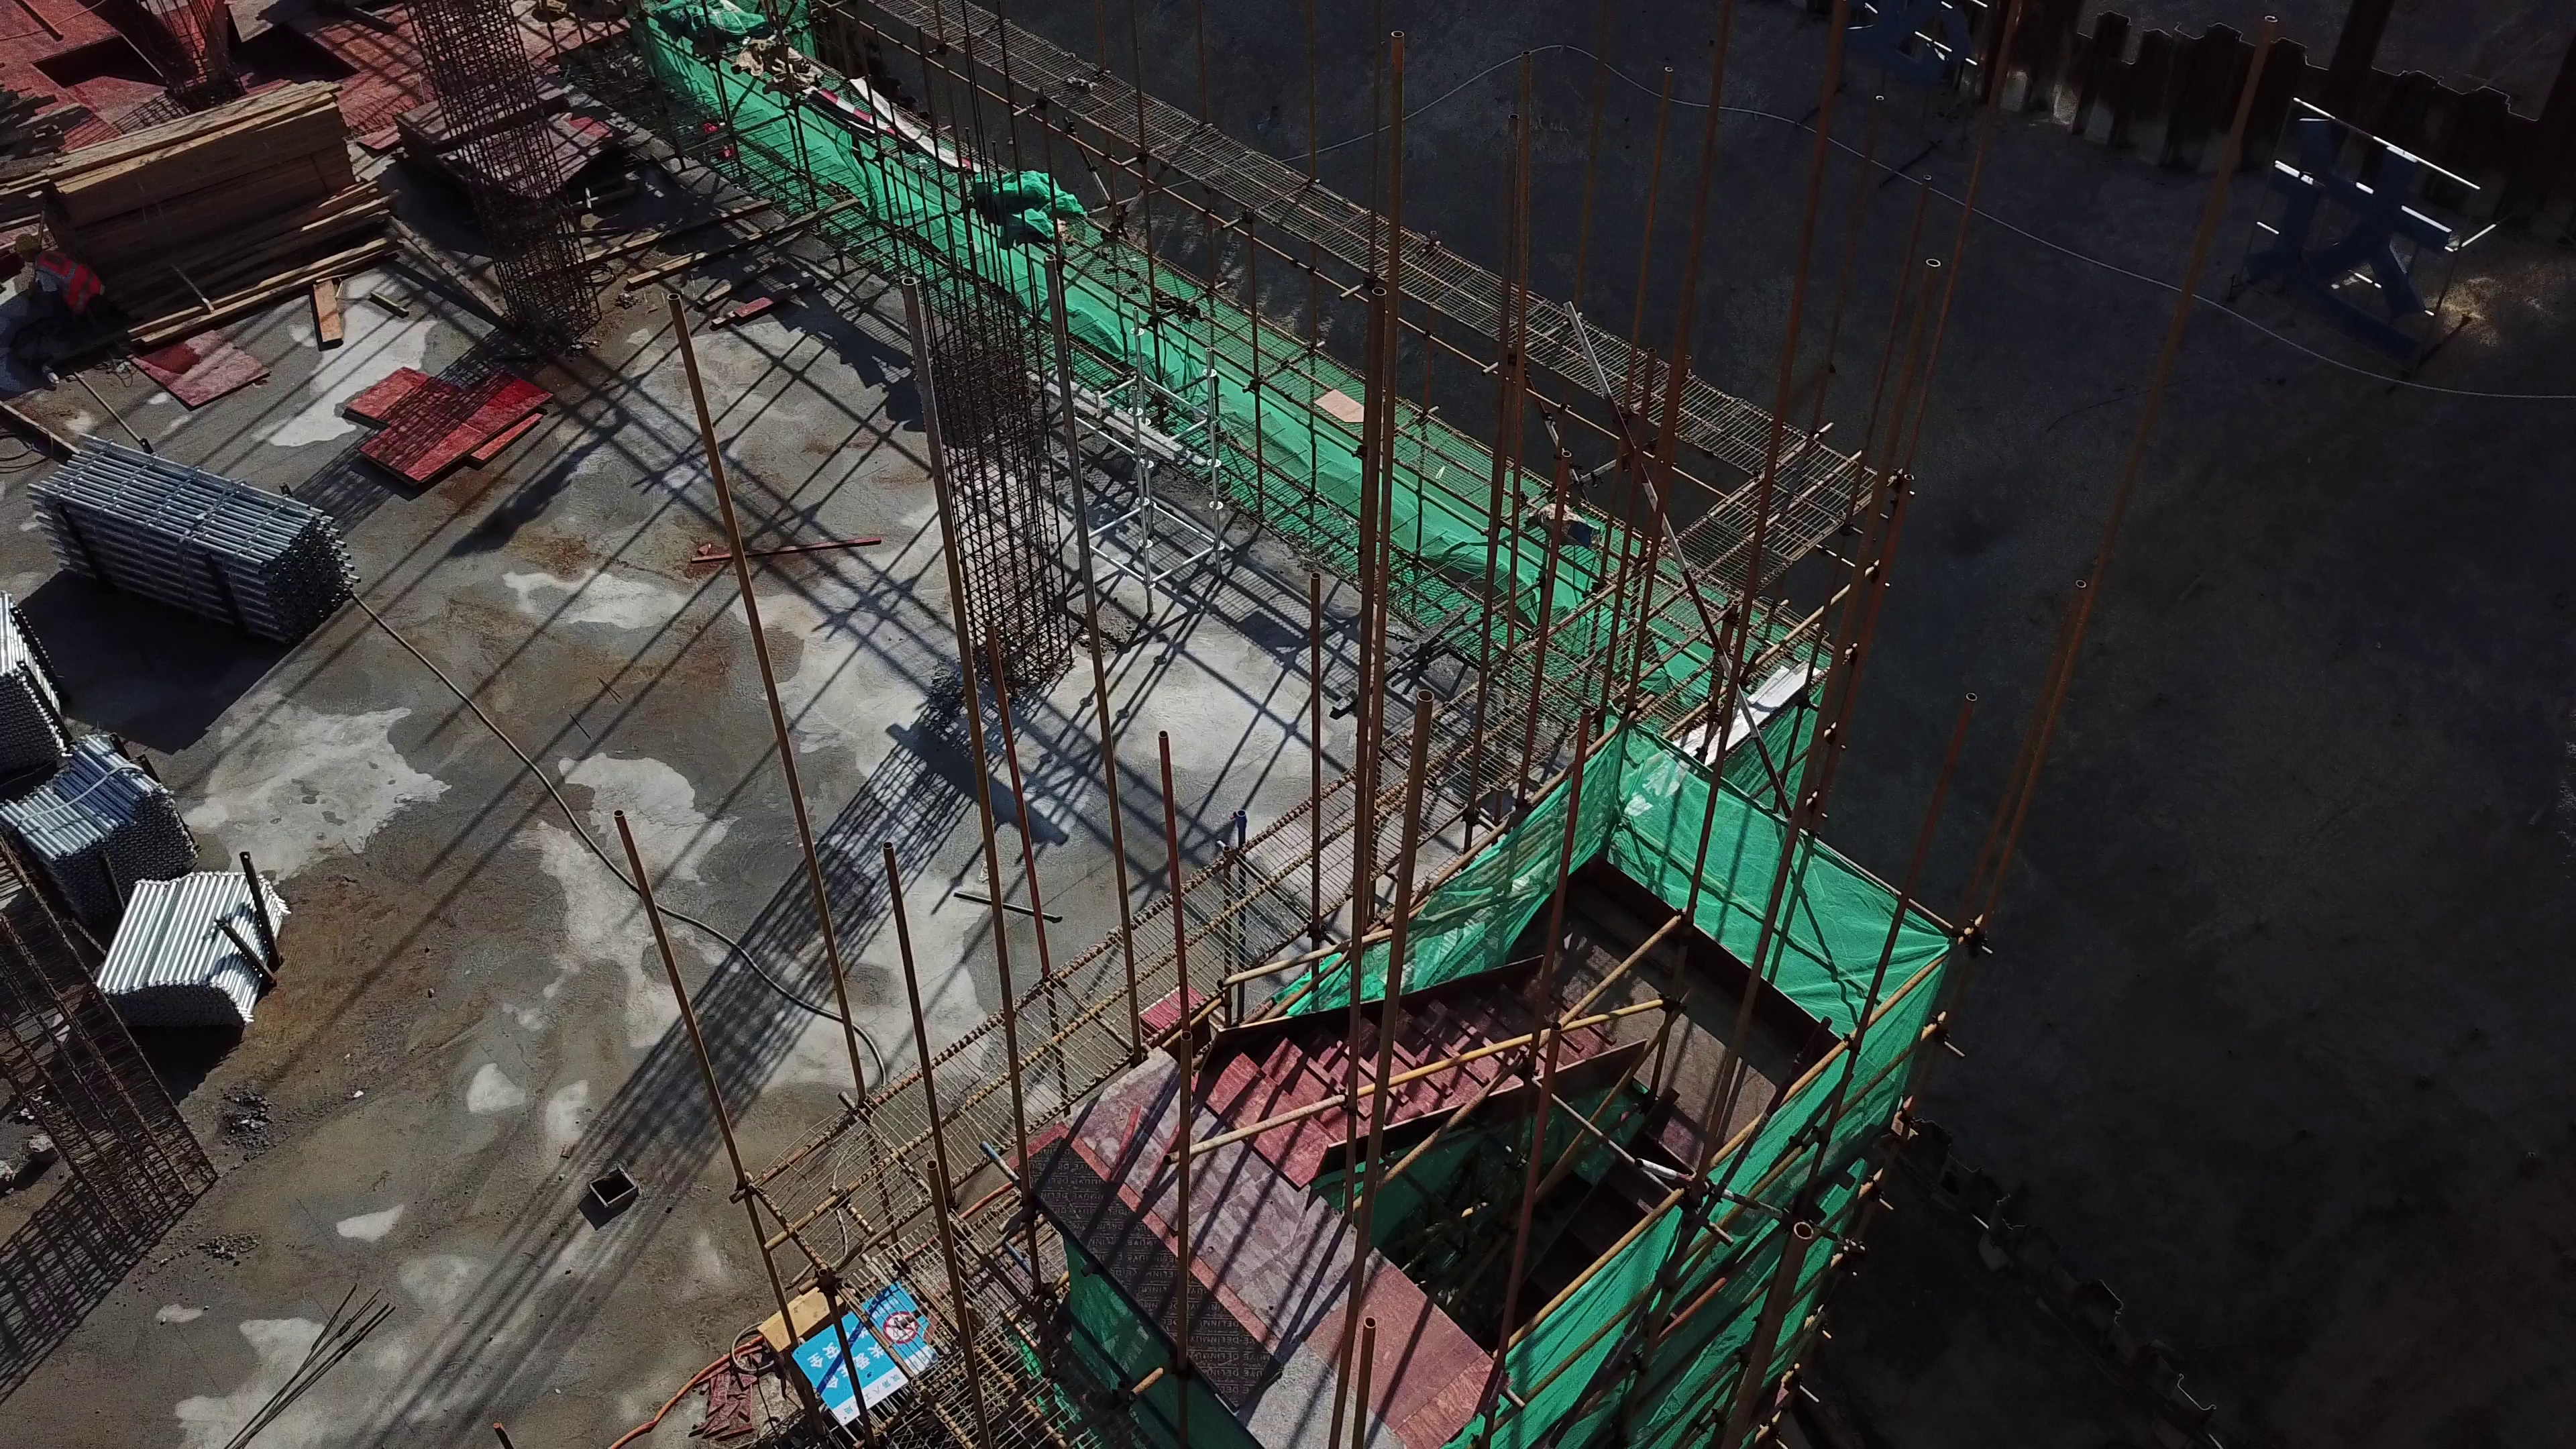board: (338, 357, 557, 497)
scaffold: (27, 425, 361, 635), (7, 722, 205, 906), (88, 869, 287, 1026), (5, 593, 65, 777)
wood: (14, 78, 407, 317)
